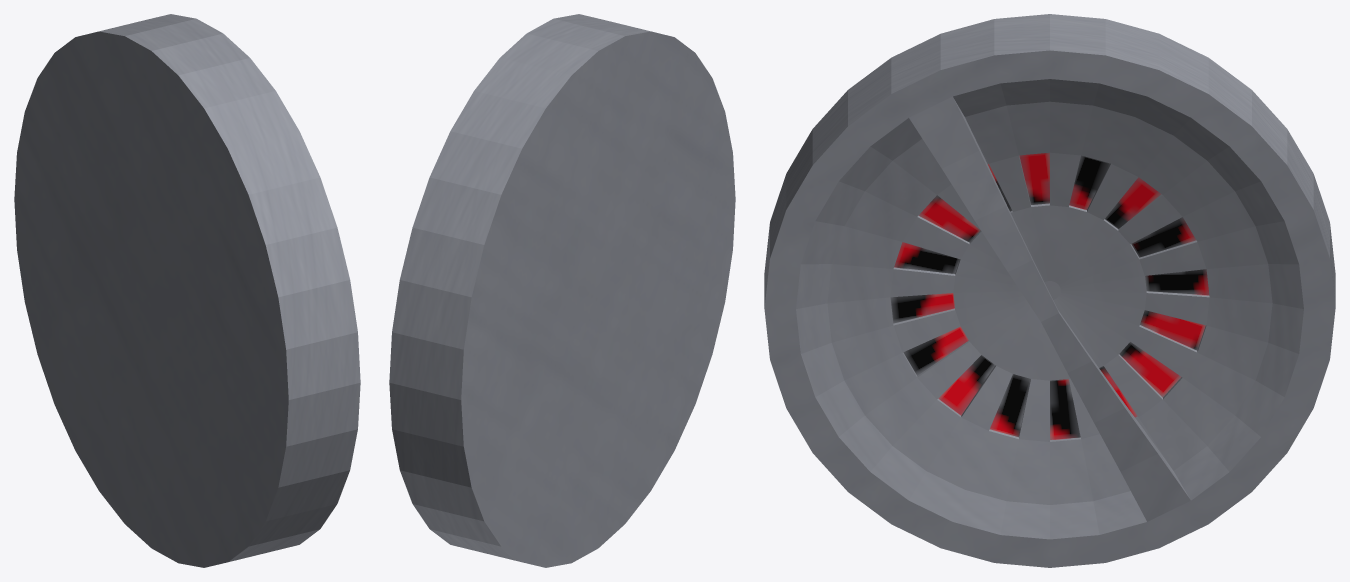
The model's file is gunstore_lock.obj.
The picture shows the model from 3 angles, left to right: view 1: azimuth 30°, elevation 25°; view 2: azimuth 150°, elevation 25°; view 3: azimuth 270°, elevation 25°; orthographic projection. The views are drawn at different scales.
Parts seen in each view (by area): view 1: Gun_Store_Handle_Cylinder.003; view 2: Gun_Store_Handle_Cylinder.003; view 3: Gun_Store_Handle_Cylinder.003.
Boxes of the visible parts, x1,y1,x2,y2 form: Gun_Store_Handle_Cylinder.003: [14, 14, 360, 567]; Gun_Store_Handle_Cylinder.003: [389, 14, 735, 567]; Gun_Store_Handle_Cylinder.003: [764, 14, 1335, 567].
Size of the model in its own units: 0.5231 by 2.82 by 2.82.
